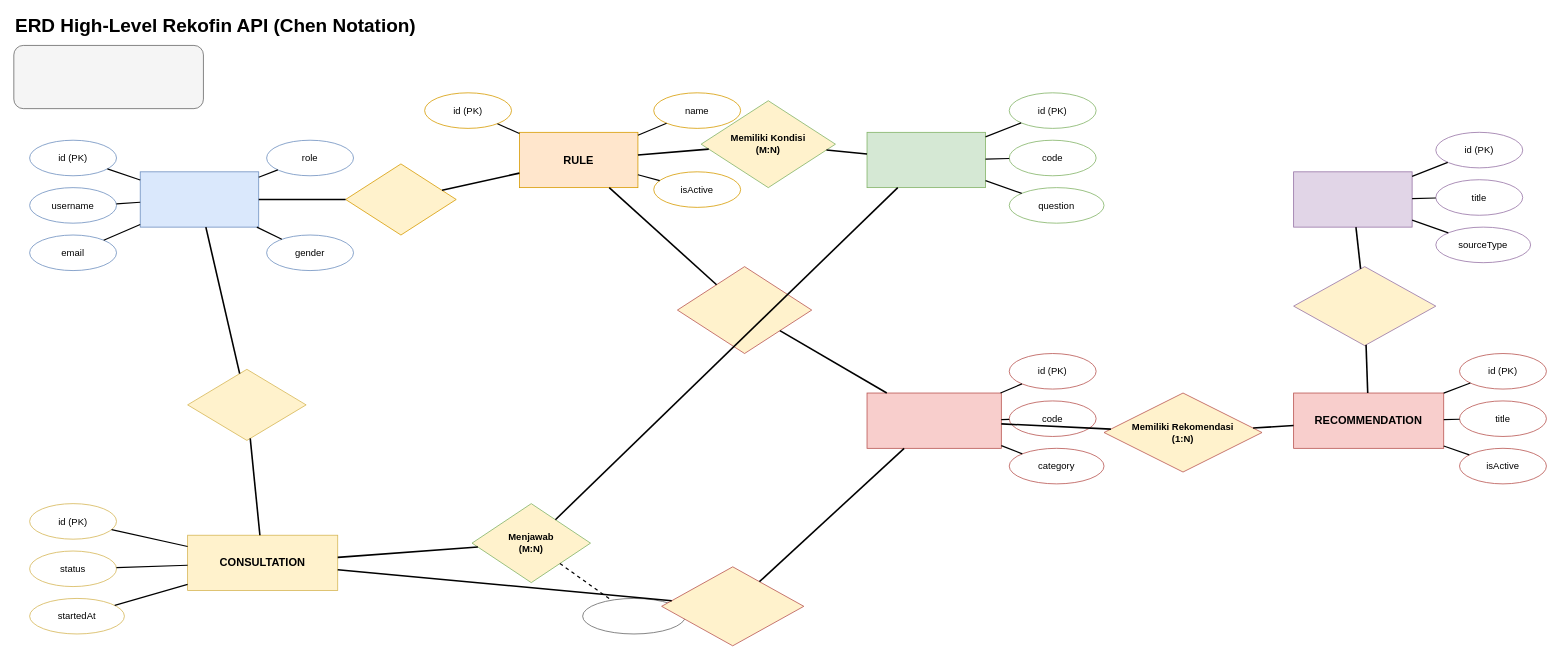
This 1560x660 diagram has some shape labels left out. The shapes that lost their labels are listed below. From the top down, each one's centre as x and y in pixels, then its label:
the point at 108,77: Kotak = Entity Lingkaran = Atribut Belah ketupat = Relasi
the point at 926,160: FACT
the point at 199,199: USER
the point at 400,199: Membuat (1:N)
the point at 1352,199: SOURCE
the point at 744,310: Menghasilkan (M:N)
the point at 1364,306: Menjadi Sumber (1:0..N)
the point at 246,404: Melakukan (1:N)
the point at 933,420: CONCLUSION
the point at 633,616: value (Boolean)
the point at 732,606: Mendapat Hasil (M:N)
